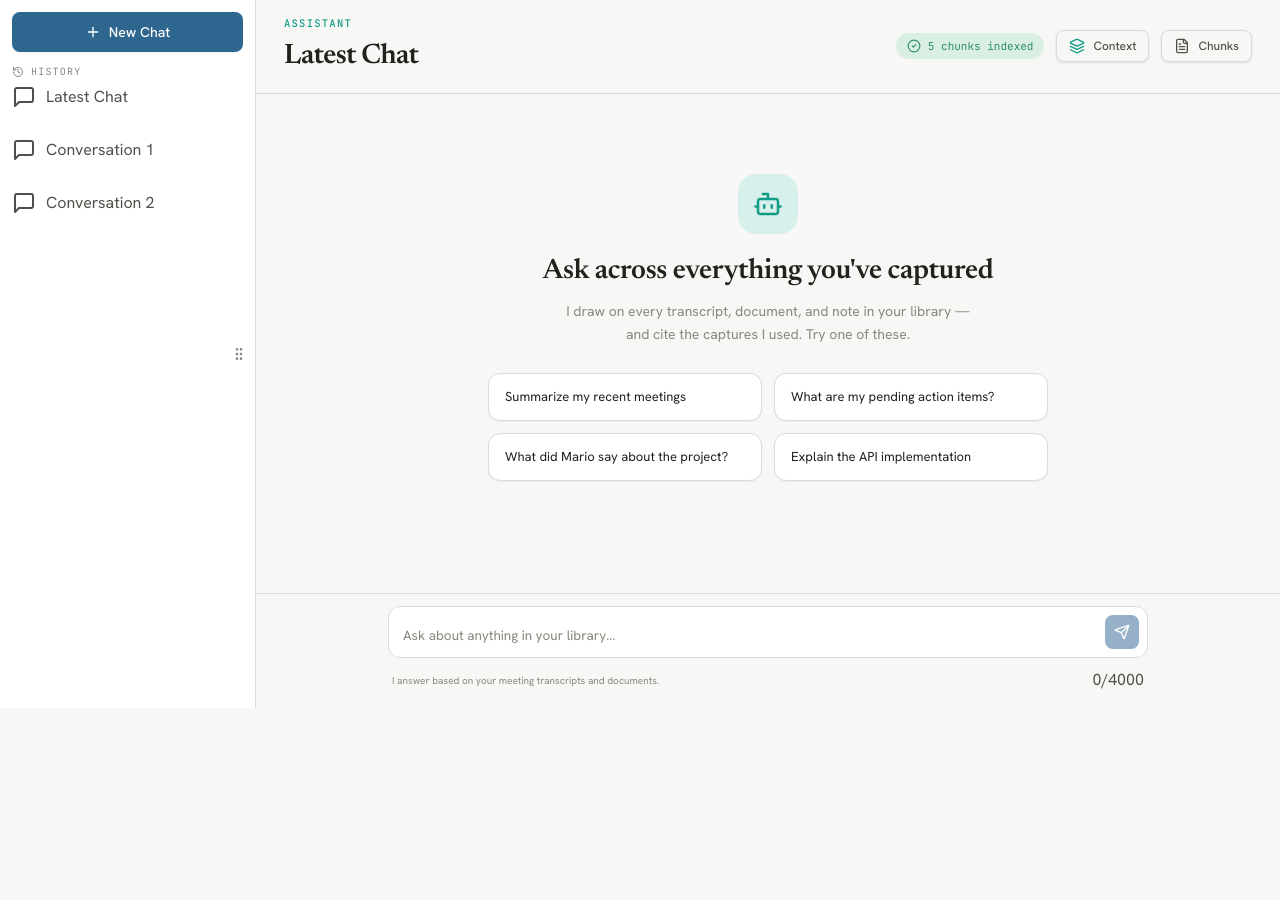
Test case: Chat Component › should update character count when typing
Check: the text "History" is shown, box [12,65,81,78]
Note: Harbor re-skin reworded the composer placeholder (ready state).
In the field with placeholder "Ask about anything in your library…": (750, 635) [403,621,1097,649], type "Hello"
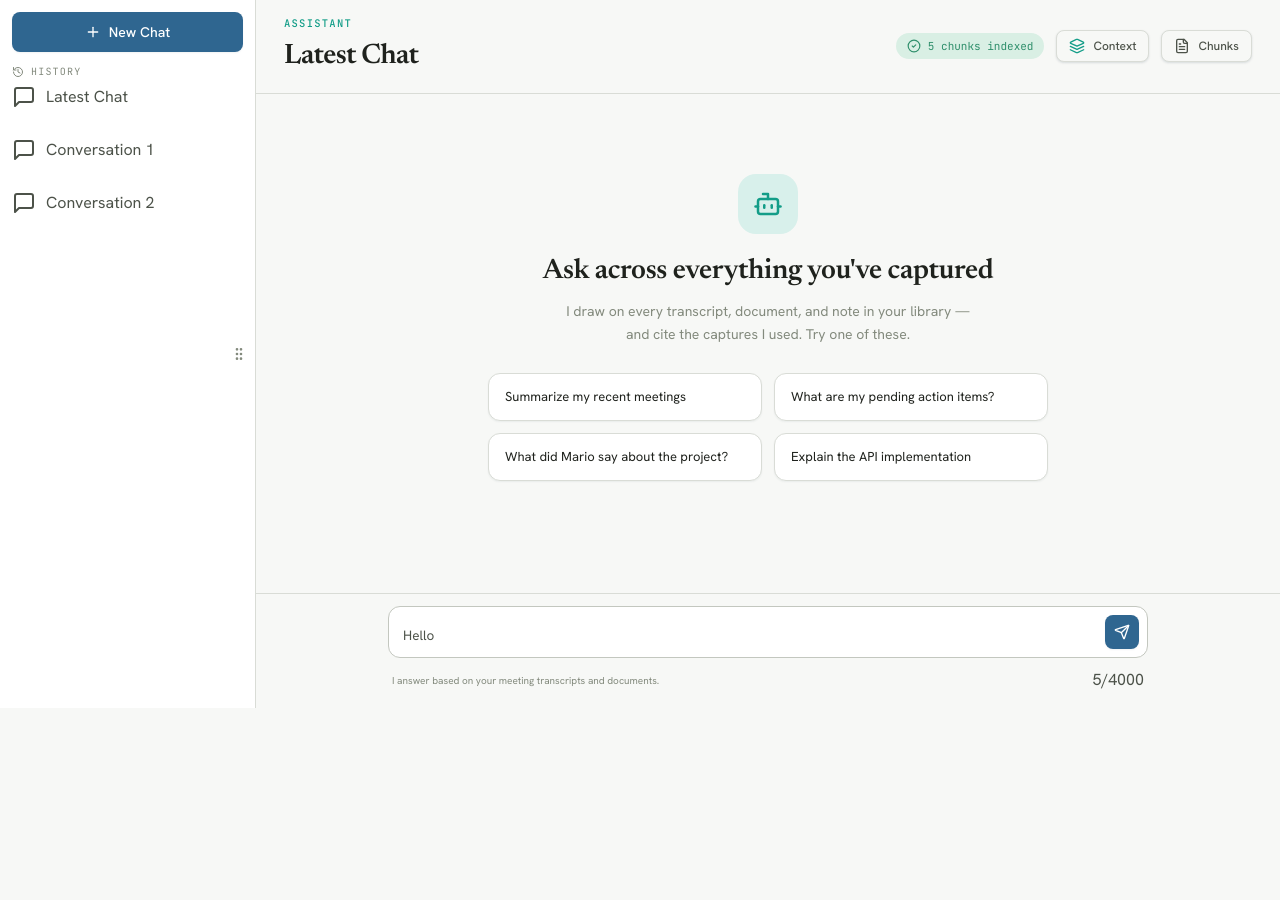
Check: the text "5/4000" is shown, box [1092,668,1144,692]
